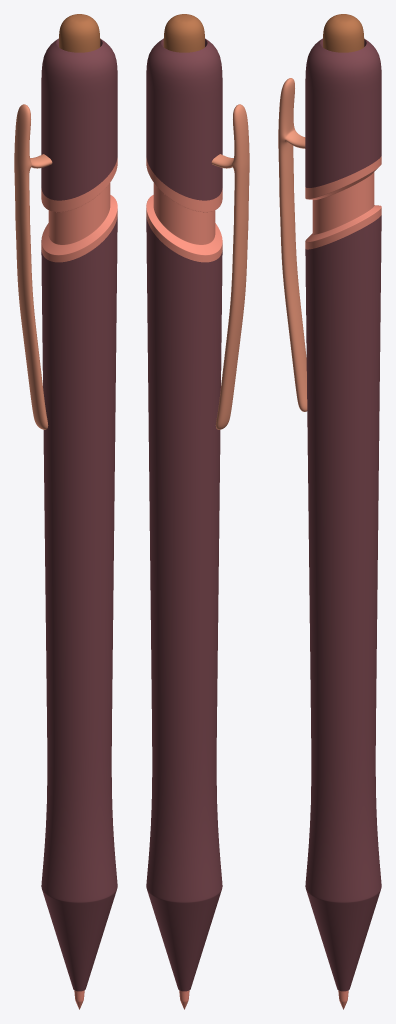
The model's file is rosegold.obj.
3 renders of one model, left to right at view 1: azimuth 30°, elevation 25°; view 2: azimuth 150°, elevation 25°; view 3: azimuth 330°, elevation 25°, orthographic.
Parts seen in each view (by area): view 1: pen; view 2: pen; view 3: pen.
Boxes of the visible parts, bbox=[...] form: pen: bbox=[14, 14, 117, 1009]; pen: bbox=[146, 14, 249, 1009]; pen: bbox=[278, 14, 381, 1009].
Size of the model in its own units: 1.13 by 11.24 by 0.7824.
